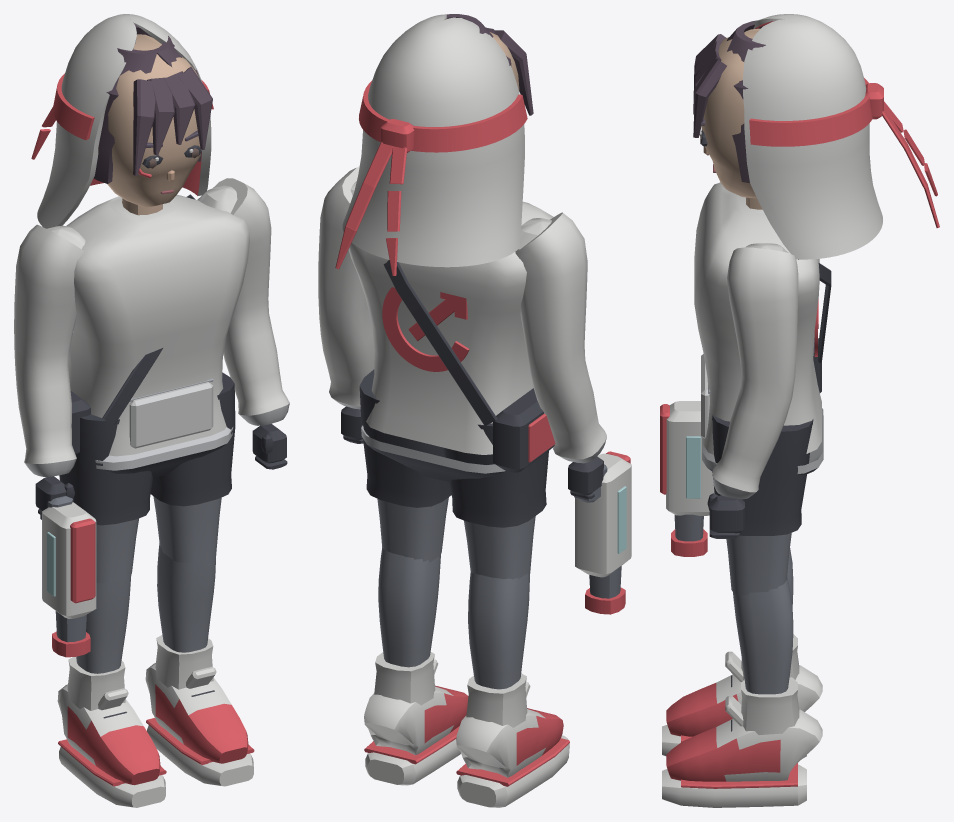
3 views of the same model, side by side, from view 1: azimuth 30°, elevation 25°; view 2: azimuth 150°, elevation 25°; view 3: azimuth 270°, elevation 25° (orthographic). The views are drawn at different scales.
Visible parts, largest first — view 1: torso, arm_r, coiffe, arm_l, jambe_r, jambe_l, head, leg_r, leg_l, hair, gun, shin_l (+3 smaller); view 2: coiffe, torso, arm_r, jambe_r, jambe_l, arm_l, leg_r, leg_l, gun, dos, shin_r, shin_l (+5 smaller); view 3: coiffe, arm_l, torso, jambe_l, leg_l, gun, shin_l, jambe_r, head, hair, gun_glow, dos (+1 smaller).
Part boxes in pixels (bbox=[...]): torso: bbox=[66, 194, 249, 477]; arm_r: bbox=[14, 224, 85, 514]; coiffe: bbox=[37, 14, 213, 228]; arm_l: bbox=[197, 178, 289, 469]; jambe_r: bbox=[57, 657, 166, 807]; jambe_l: bbox=[145, 635, 254, 786]; head: bbox=[107, 34, 201, 215]; leg_r: bbox=[59, 414, 152, 583]; leg_l: bbox=[150, 372, 235, 563]; hair: bbox=[93, 24, 212, 183]; gun: bbox=[40, 496, 96, 657]; shin_l: bbox=[157, 543, 216, 652]; coiffe: bbox=[342, 14, 527, 267]; torso: bbox=[348, 201, 553, 482]; arm_r: bbox=[515, 212, 606, 499]; jambe_r: bbox=[456, 673, 569, 807]; jambe_l: bbox=[364, 652, 468, 785]; arm_l: bbox=[318, 166, 374, 443]; leg_r: bbox=[442, 423, 548, 579]; leg_l: bbox=[359, 369, 451, 562]; gun: bbox=[574, 451, 631, 614]; dos: bbox=[383, 260, 555, 472]; shin_r: bbox=[468, 571, 529, 689]; shin_l: bbox=[378, 547, 440, 667]; coiffe: bbox=[743, 14, 883, 259]; arm_l: bbox=[707, 243, 798, 538]; torso: bbox=[694, 182, 823, 475]; jambe_l: bbox=[662, 677, 822, 807]; leg_l: bbox=[712, 415, 813, 595]; gun: bbox=[660, 401, 714, 556]; shin_l: bbox=[733, 576, 793, 694]; jambe_r: bbox=[662, 634, 822, 758]; head: bbox=[699, 28, 762, 209]; hair: bbox=[693, 20, 765, 182]; gun_glow: bbox=[686, 436, 700, 498]; dos: bbox=[798, 259, 831, 392].
Bounding box in the file's own units: 0.447 × 1.23 × 0.4115.
